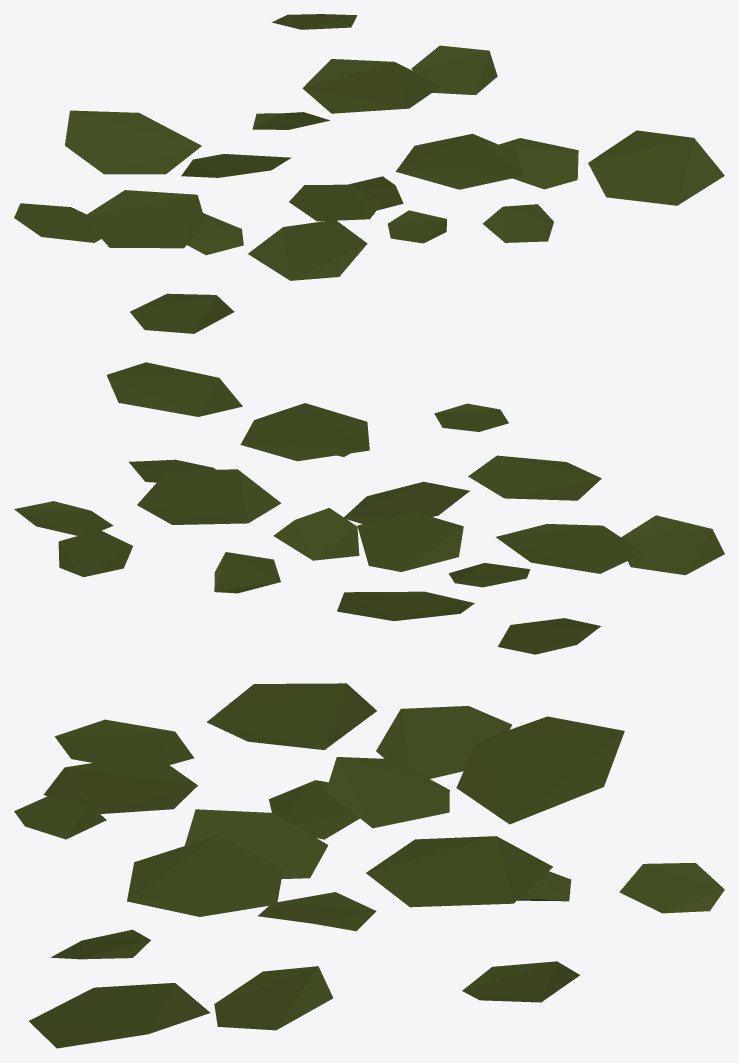
File: SM_Plant_Shamrock_A.fbx
3 renders of one model, top to bottom at view 1: azimuth 30°, elevation 25°; view 2: azimuth 150°, elevation 25°; view 3: azimuth 270°, elevation 25°, orthographic. The views are drawn at different scales.
Parts seen in each view (by area): view 1: plant-shamrock-a; view 2: plant-shamrock-a; view 3: plant-shamrock-a.
Boxes of the visible parts, <box> form: plant-shamrock-a: <box>14,14,724,333</box>; plant-shamrock-a: <box>14,362,724,654</box>; plant-shamrock-a: <box>14,683,724,1048</box>.
Size of the model in its own units: 0.4881 by 0.0588 by 0.3947.
